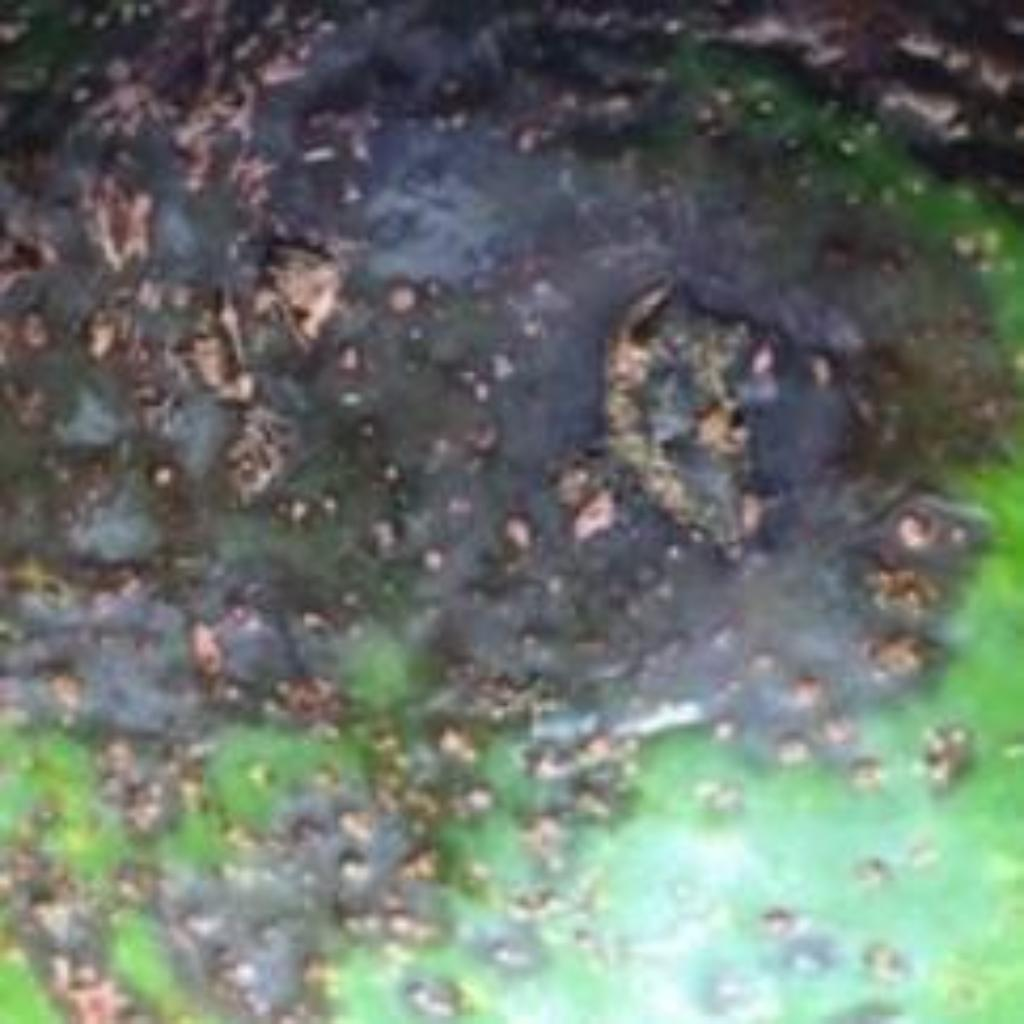Anthracnose: (0, 50, 990, 944)
